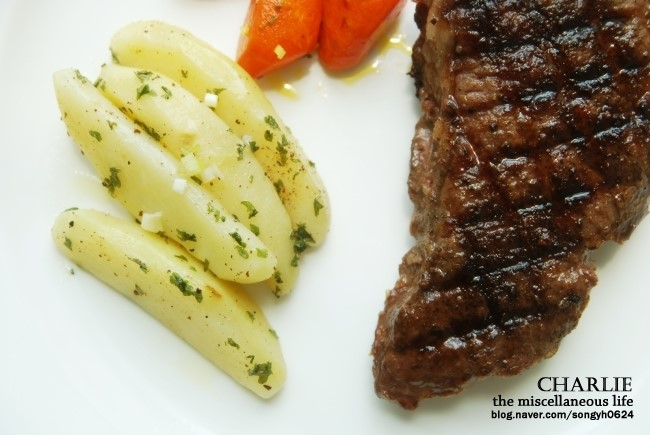boiled potatoes: (80, 32, 287, 386)
